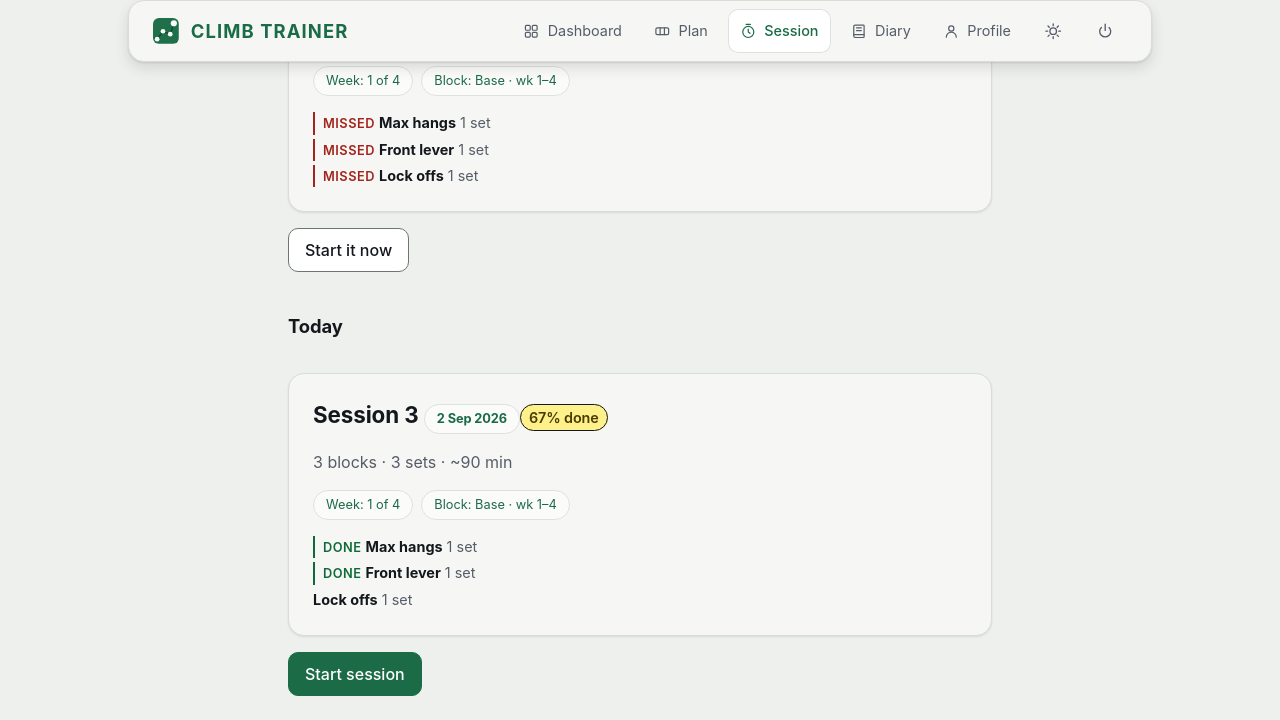
Scenario: re-enters a pre-done part, and the summary counts the parts it never re-logged
The width and height of the screenshot is (1280, 720).
(page scrolled)
Click the button "Start session" at {"x": 355, "y": 674}, box [288,652,422,696]
(page scrolled)
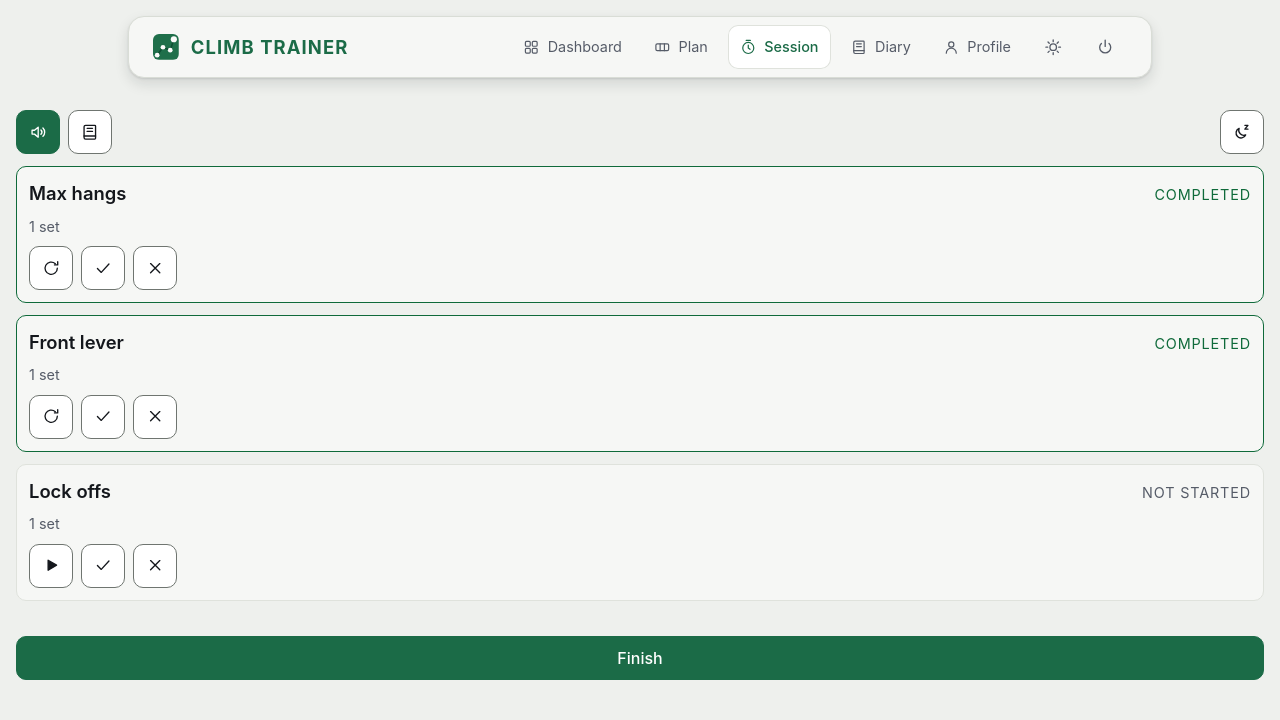
# "Restart", not "Start": the row already reads completed, so its own control says so.
Click the button named "Restart Max hangs" at {"x": 51, "y": 268}, box [29,246,73,290]
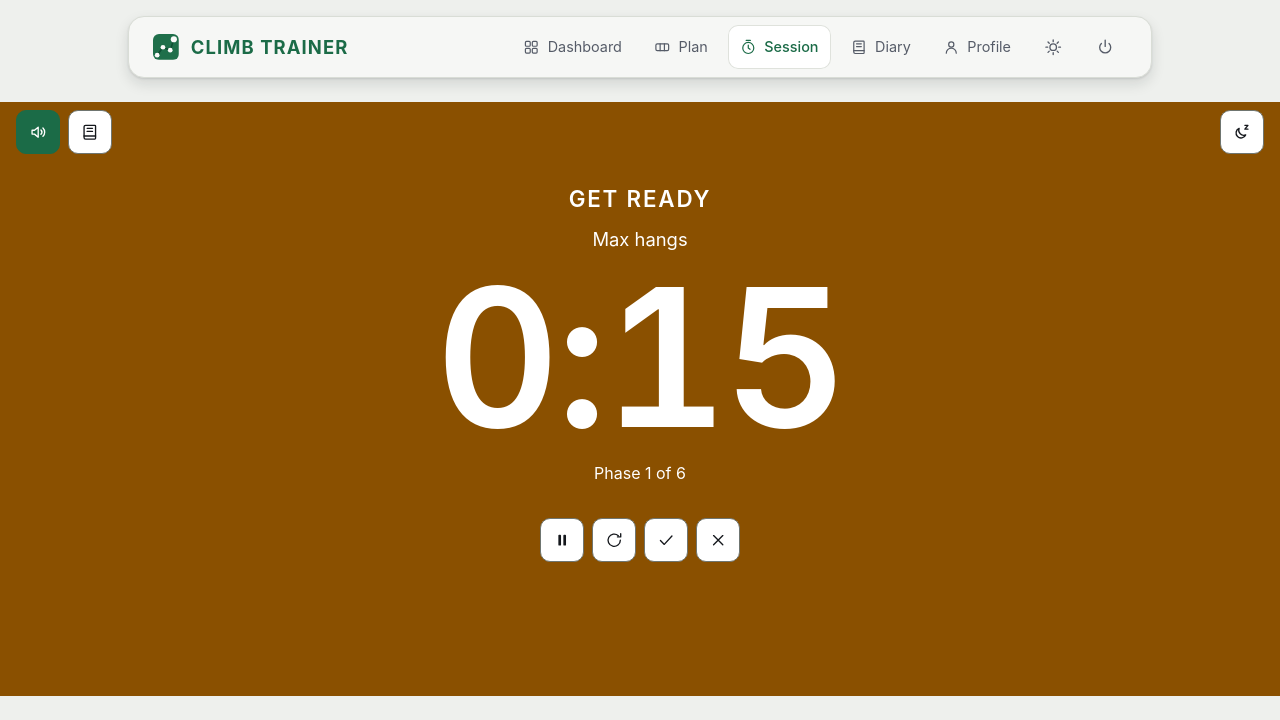
Click the button named "Mark Max hangs completed" at {"x": 666, "y": 540}, box [644,518,688,562]
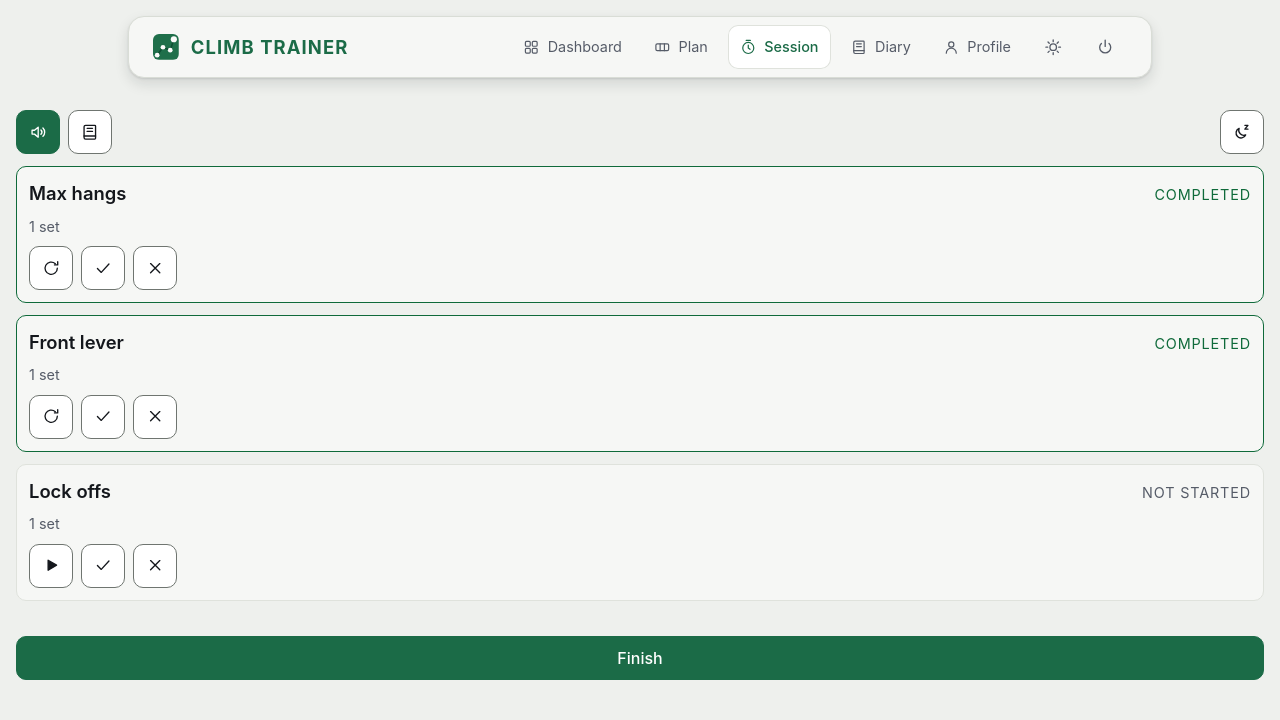
Click the button named "I did Lock offs myself" at {"x": 103, "y": 566}, box [81,544,125,588]
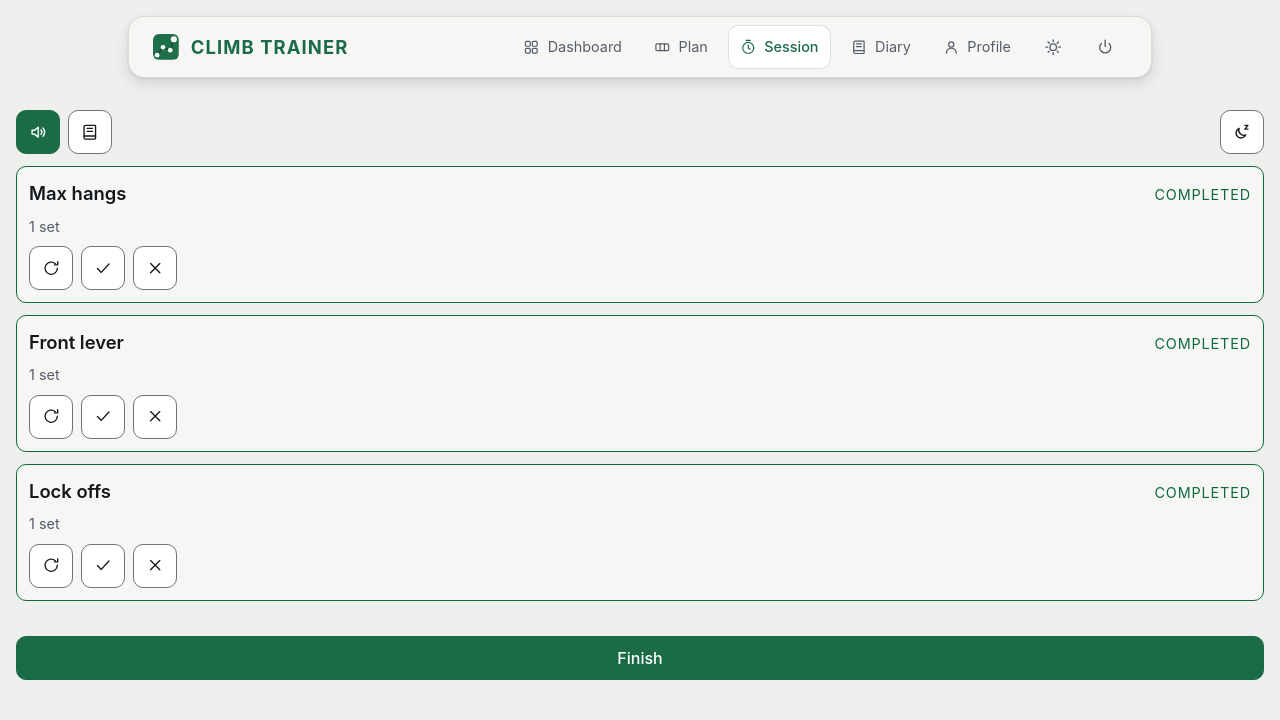
Click the button "Finish" at {"x": 640, "y": 658}, box [16,636,1264,680]
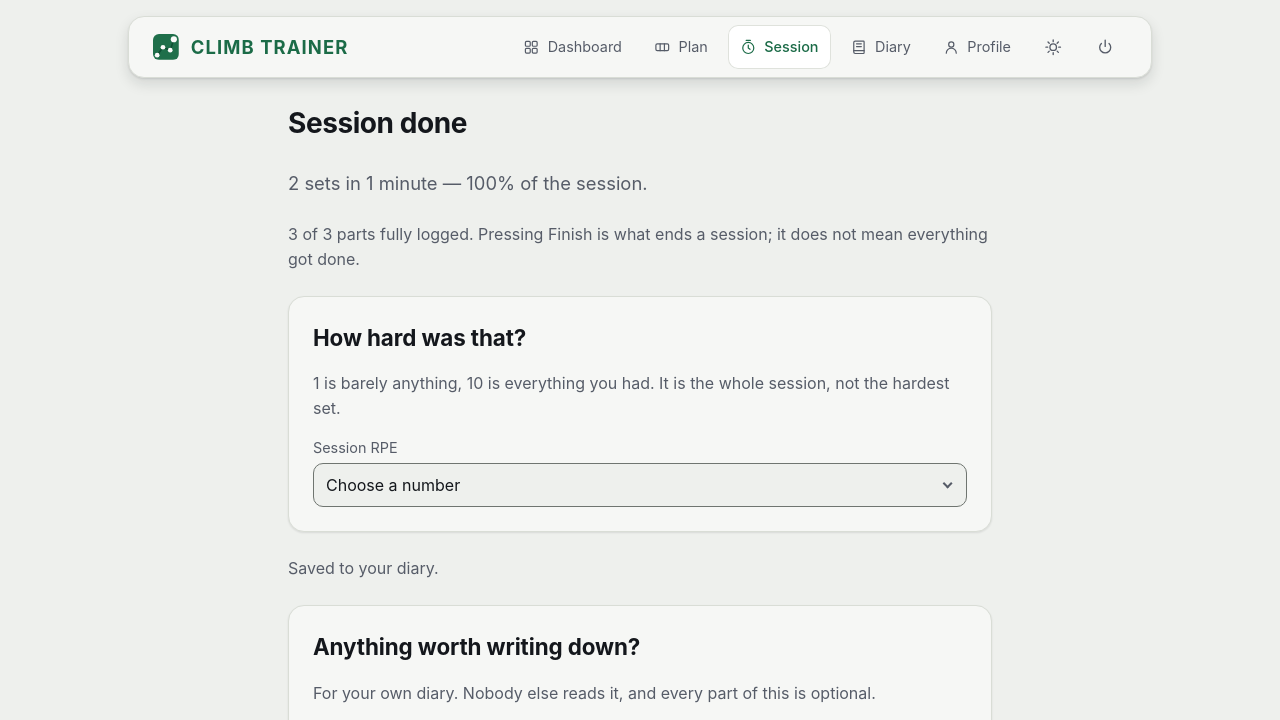
expect the text "2 sets in 1 minute — 100% of the session." is shown: met, box [288,172,648,194]
expect the text "3 of 3 parts fully logged" is shown: met, box [288,222,992,272]
